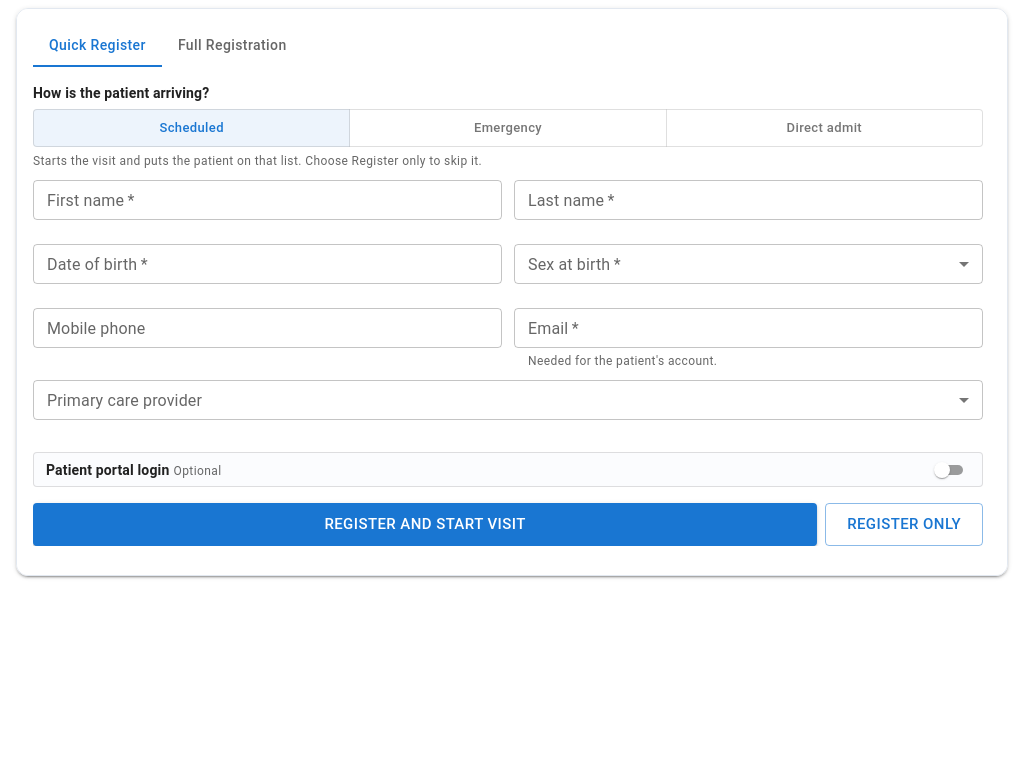
Test: staff Quick Register › problems show under the fields, not as toasts, and nothing is sent
Step 1. Click the button "Register only" → (904, 525), box [825,503,983,546]
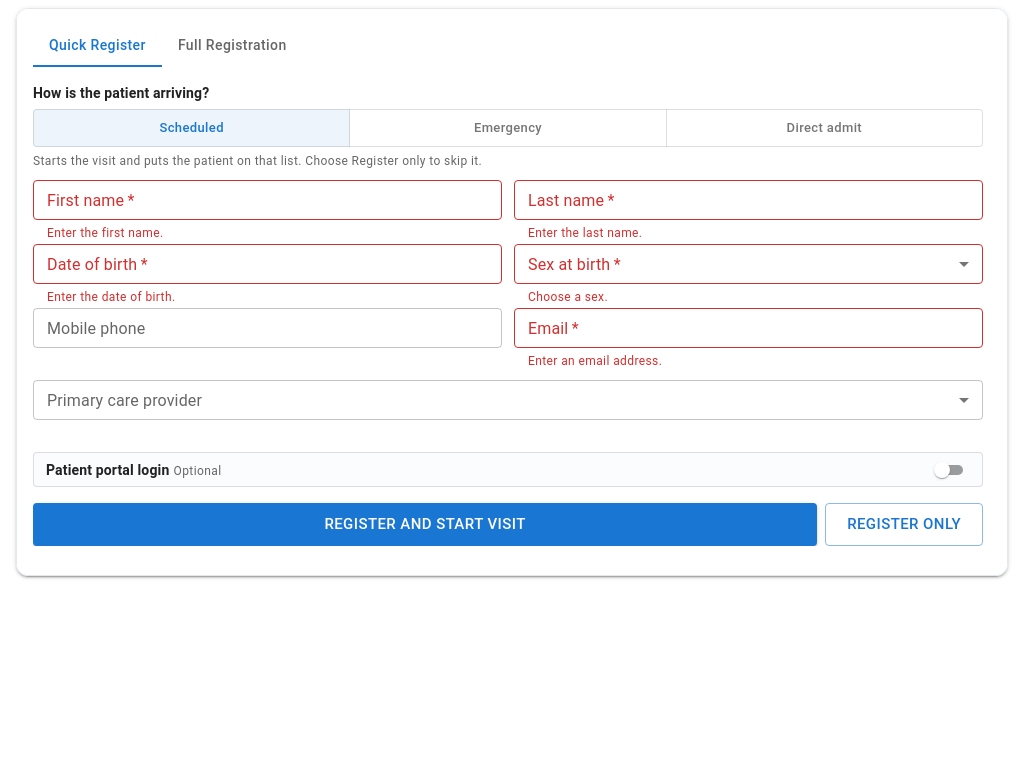
expect the text "Enter the first name." is shown: met, box [47,226,164,240]
expect the text "Enter the last name." is shown: met, box [528,226,642,240]
expect the text "Enter the date of birth." is shown: met, box [47,290,176,304]
